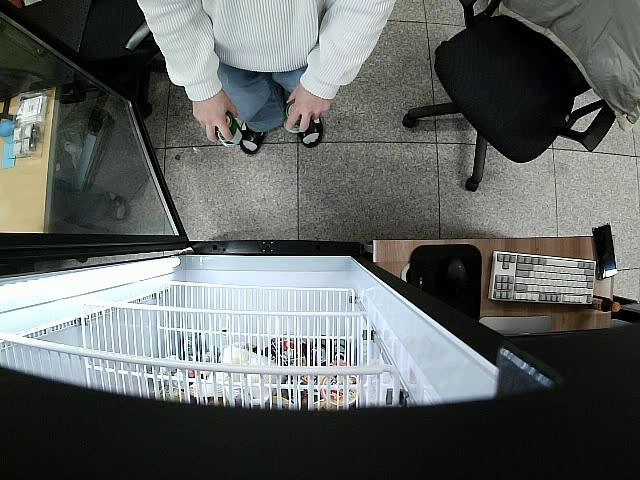12_chilsungCider: (214, 112, 243, 147), (284, 98, 306, 134)
